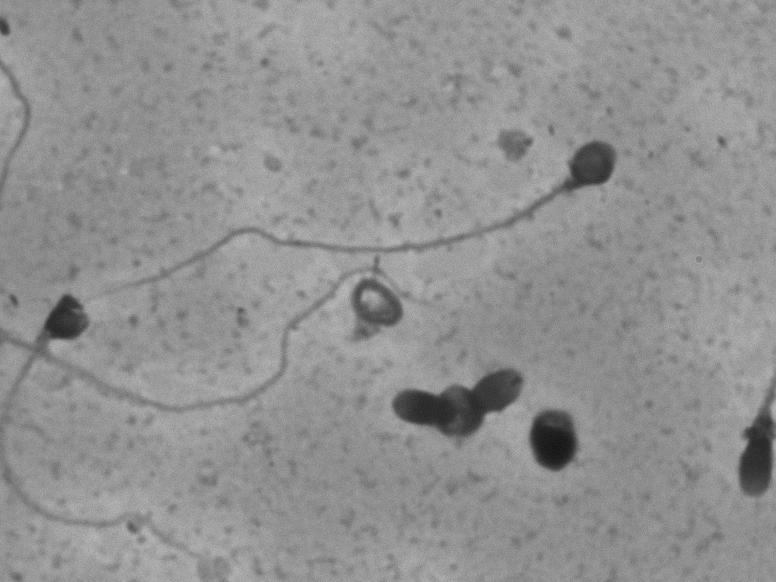Abnormal: (116, 108, 679, 330)
